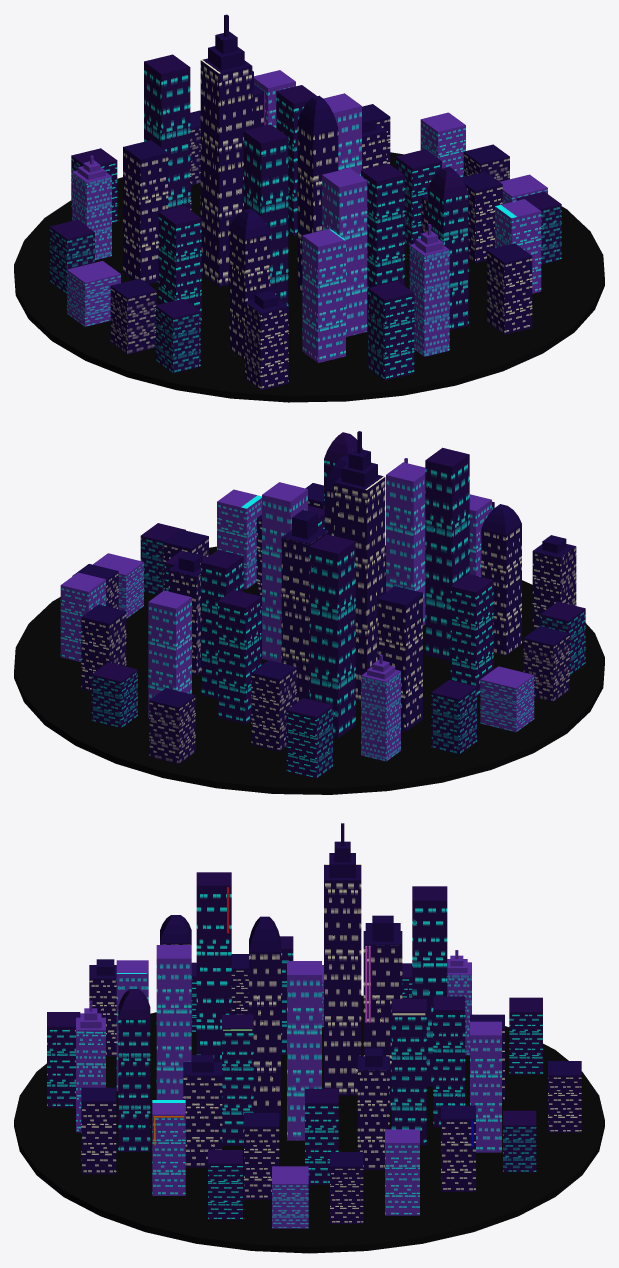
The model's file is City.glb.
3 views of the same model, one above another, from view 1: azimuth 30°, elevation 25°; view 2: azimuth 150°, elevation 25°; view 3: azimuth 270°, elevation 25° (orthographic).
Parts seen in each view (by area): view 1: Cylinder, Step-top.001, Flat-top.004, Flat-top.007, Flat-top.008, Flat-top.003, Flat-top.002, Round-top.001, Flat-top, Step-top, Round-top, Flat-top.015 (+24 smaller); view 2: Cylinder, Flat-top.003, Flat-top.004, Step-top.001, Flat-top.010, Flat-top.002, Block-top.002, Round-top.002, Flat-top.008, Flat-top.009, Flat-top.006, Flat-top.005 (+23 smaller); view 3: Cylinder, Step-top.001, Flat-top.004, Round-top.001, Flat-top.006, Flat-top.002, Round-top, Flat-top.001, Flat-top.003, Block-top.002, Block-top.001, Flat-top.005 (+23 smaller).
Boxes of the visible parts, x1,y1,x2,y2 form: Cylinder: (14, 152, 604, 402); Step-top.001: (200, 14, 252, 286); Flat-top.004: (243, 124, 288, 305); Flat-top.007: (302, 228, 345, 362); Flat-top.008: (123, 140, 168, 284); Flat-top.003: (144, 54, 190, 209); Flat-top.002: (322, 168, 367, 336); Round-top.001: (297, 95, 338, 291); Flat-top: (361, 163, 404, 291); Step-top: (409, 224, 449, 356); Round-top: (428, 167, 468, 329); Flat-top.015: (368, 281, 414, 380); Cylinder: (14, 545, 604, 794); Flat-top.003: (309, 534, 355, 738); Flat-top.004: (425, 447, 469, 661); Step-top.001: (334, 431, 385, 701); Flat-top.010: (218, 590, 261, 724); Flat-top.002: (386, 462, 425, 625); Block-top.002: (281, 510, 328, 702); Round-top.002: (481, 504, 521, 655); Flat-top.008: (377, 586, 422, 731); Flat-top.009: (450, 574, 493, 696); Flat-top.006: (262, 482, 307, 662); Flat-top.005: (148, 590, 191, 718); Cylinder: (14, 995, 604, 1253); Step-top.001: (324, 823, 361, 1095); Flat-top.004: (196, 872, 231, 1061); Round-top.001: (249, 916, 280, 1119); Flat-top.006: (287, 961, 321, 1140); Flat-top.002: (156, 945, 191, 1099); Round-top: (118, 989, 150, 1151); Flat-top.001: (391, 999, 426, 1145); Flat-top.003: (412, 886, 447, 1086); Block-top.002: (363, 915, 402, 1111); Block-top.001: (183, 1055, 222, 1167); Flat-top.005: (470, 1021, 501, 1152).
Bounding box in the file's own units: 49.81 × 24.7 × 49.07.
38 materials, 29 textured.
